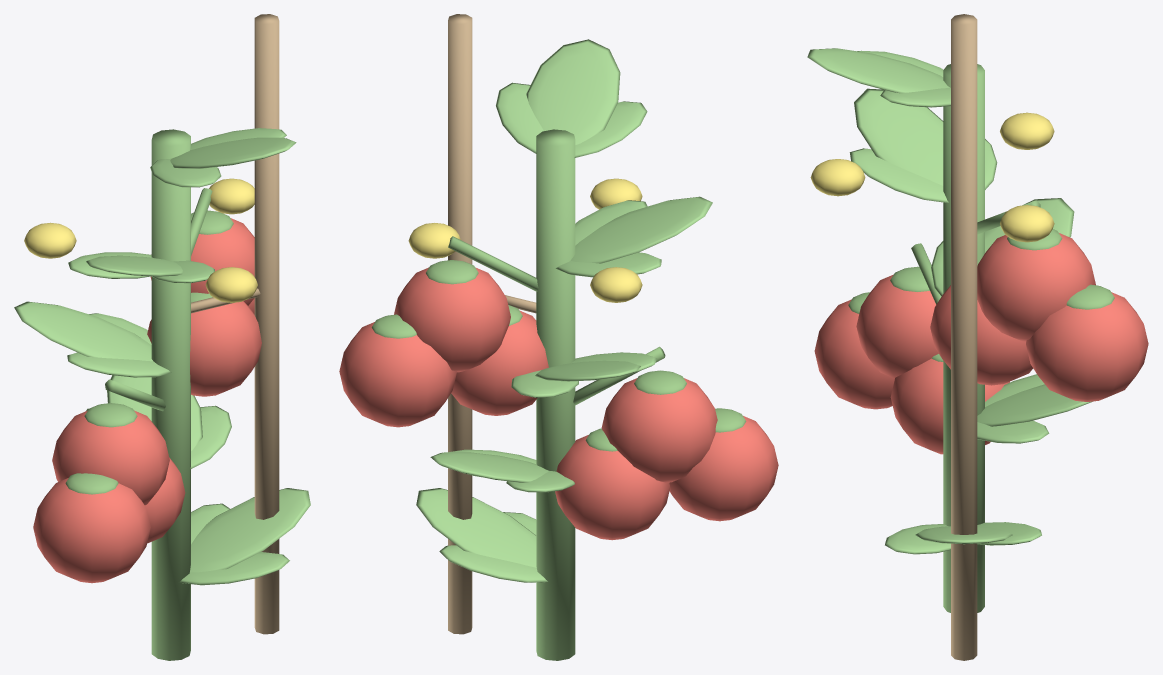
Rendered from VCrop_Tomato_5.fbx.
3 views of the same model, side by side, from view 1: azimuth 30°, elevation 25°; view 2: azimuth 150°, elevation 25°; view 3: azimuth 270°, elevation 25° (orthographic). The views are drawn at different scales.
Visible parts, largest first — view 1: VCrop_Tomato_5; view 2: VCrop_Tomato_5; view 3: VCrop_Tomato_5.
Boxes of the visible parts, x1,y1,x2,y2 form: VCrop_Tomato_5: (14,14,310,660); VCrop_Tomato_5: (339,14,778,660); VCrop_Tomato_5: (807,14,1148,660).
Bounding box in the file's own units: 0.3536 × 0.64 × 0.3113.
